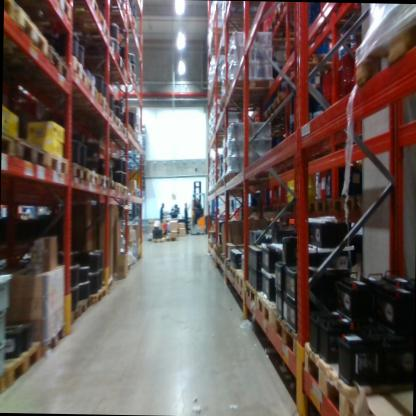forklift: (187, 177, 206, 239)
pallet: (298, 337, 411, 416), (355, 5, 416, 90), (284, 42, 342, 94), (4, 330, 43, 401), (5, 4, 51, 57), (60, 10, 110, 42), (12, 133, 50, 175), (270, 309, 299, 360), (225, 73, 274, 103), (225, 166, 276, 193), (39, 321, 67, 367), (219, 90, 270, 115), (46, 39, 71, 86), (265, 18, 308, 45), (29, 0, 75, 23), (43, 144, 71, 179), (256, 290, 276, 334), (65, 53, 85, 94), (63, 0, 100, 18), (67, 159, 89, 189), (244, 272, 258, 312), (274, 87, 296, 112), (64, 307, 78, 346), (2, 126, 19, 158), (274, 4, 306, 19), (83, 73, 98, 104), (86, 166, 101, 191), (98, 86, 110, 117), (89, 284, 106, 305), (103, 102, 117, 127), (75, 299, 92, 319), (98, 168, 112, 192), (235, 266, 247, 294), (0, 367, 9, 401), (4, 0, 21, 15), (264, 99, 274, 124), (101, 276, 114, 295), (114, 112, 124, 133), (164, 233, 178, 245), (112, 180, 123, 195), (225, 253, 232, 275), (150, 235, 166, 244), (228, 264, 236, 282), (218, 252, 227, 268), (122, 182, 131, 197)
